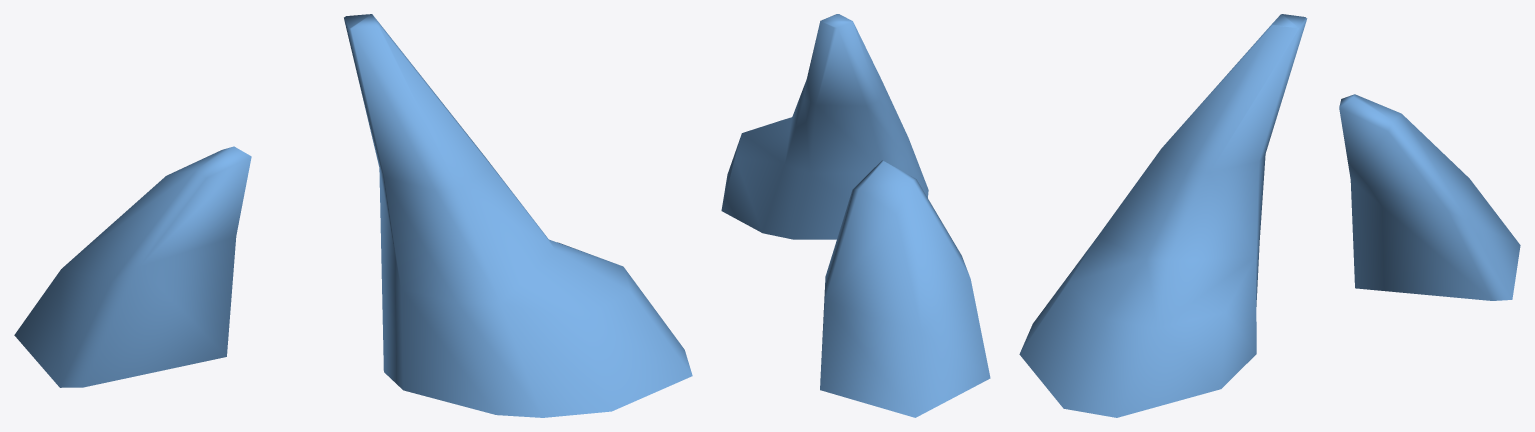
Rendered from Glacier_Extra_FrostyFields.fbx.
The picture shows the model from 3 angles, left to right: view 1: azimuth 30°, elevation 25°; view 2: azimuth 150°, elevation 25°; view 3: azimuth 270°, elevation 25°; orthographic projection. The views are drawn at different scales.
Visible parts, largest first — view 1: Glacier_01.002, Glacier_01.001; view 2: Glacier_01.001, Glacier_01.002; view 3: Glacier_01.002, Glacier_01.001.
Part boxes in pixels (<box>): Glacier_01.002: <box>344,14,692,417</box>; Glacier_01.001: <box>14,146,251,387</box>; Glacier_01.001: <box>820,160,990,417</box>; Glacier_01.002: <box>721,14,928,239</box>; Glacier_01.002: <box>1019,14,1307,417</box>; Glacier_01.001: <box>1339,94,1520,300</box>.
Bounding box in the file's own units: 88.91 × 62.44 × 87.34.
